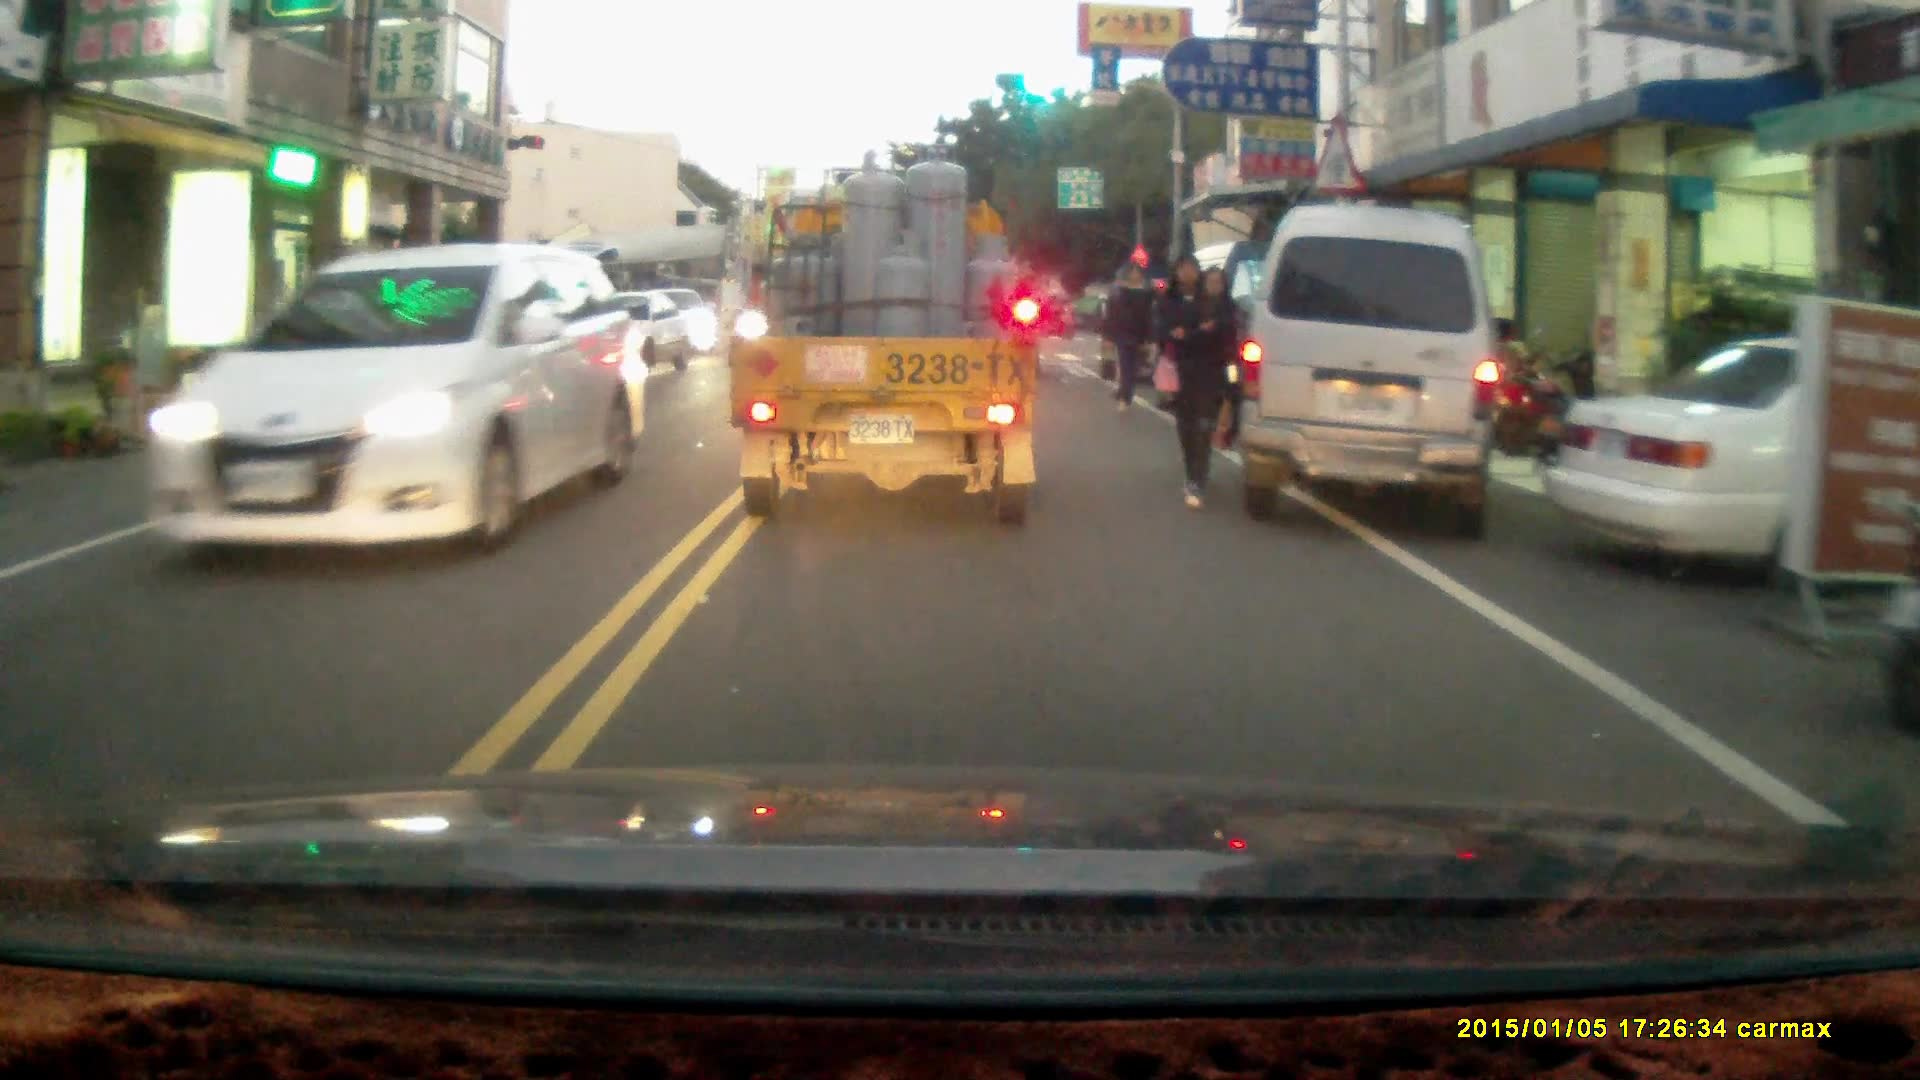pedestrian: (1152, 247, 1223, 509), (1103, 261, 1155, 418)
rider: (1037, 287, 1074, 340)
vehicle: (118, 243, 631, 562), (722, 140, 1045, 527), (1541, 332, 1920, 606), (1231, 203, 1510, 535)
